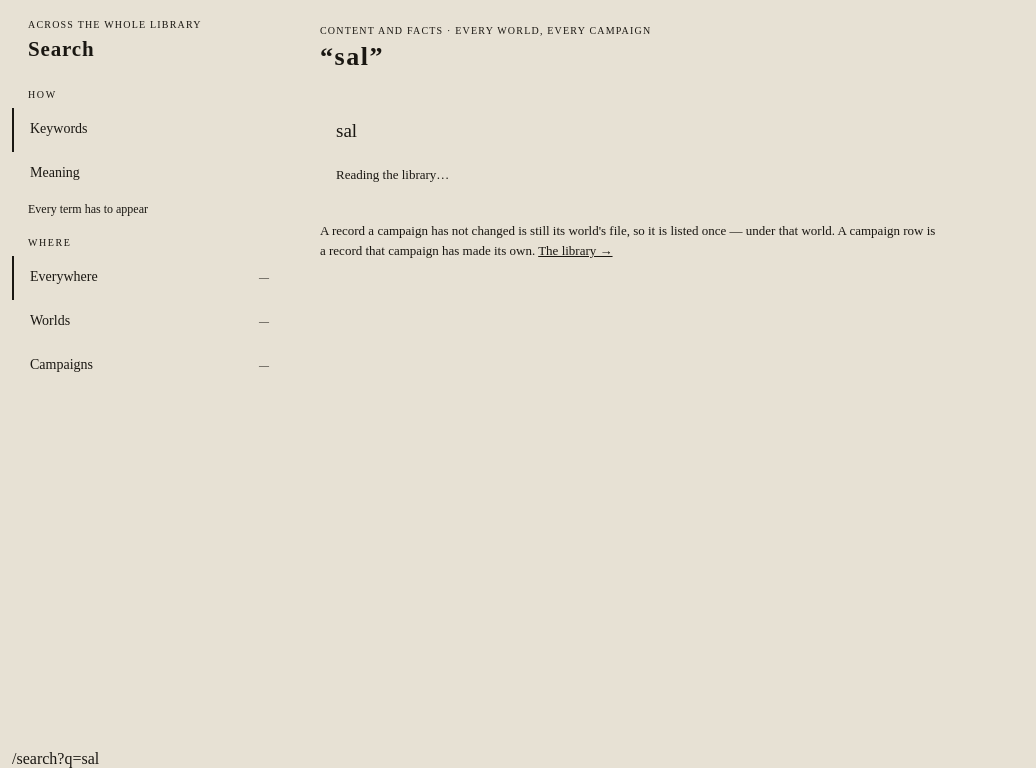
Test case: a superseded search that fails is traded for the wanted one, not reported
Replace the text in the search field named "search the library" with "salt" at (661, 131), box [320,105,1002,157]
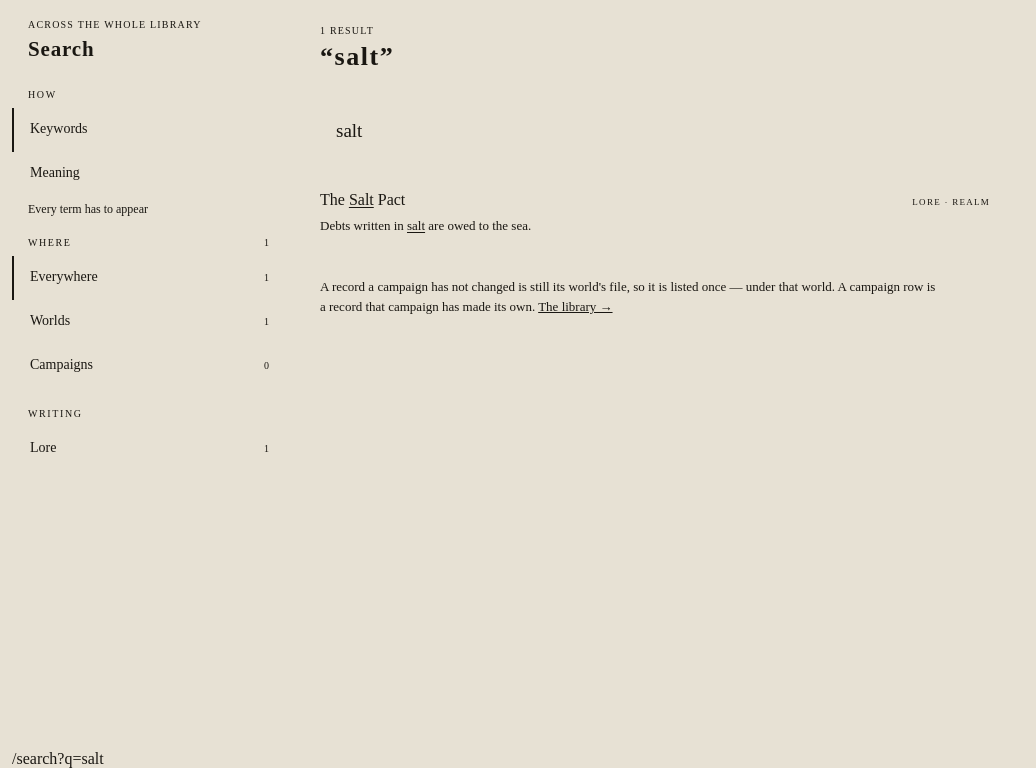
Now the text with test id "where" shows "q=salt", box [12,750,104,767]
Now the link "The Salt Pact" is shown, box [320,191,990,234]
